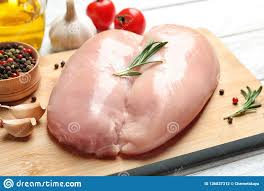Chicken: (57, 29, 218, 151)
Onion: (51, 2, 99, 43), (4, 103, 34, 131)
Tomato: (113, 7, 151, 32)
